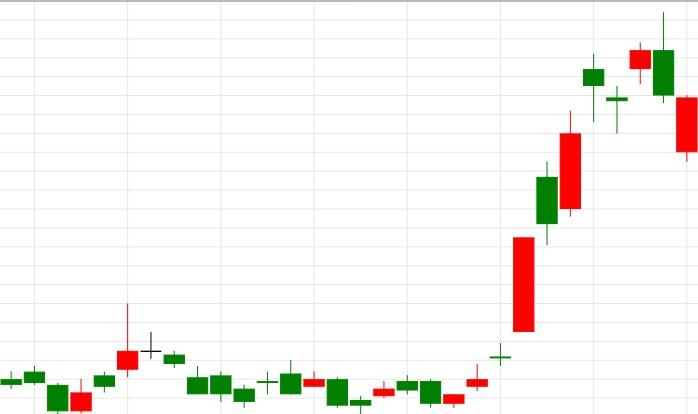bearish_engulfing_fall: (442, 12, 675, 408)
evening_star_fall: (47, 304, 186, 413)
